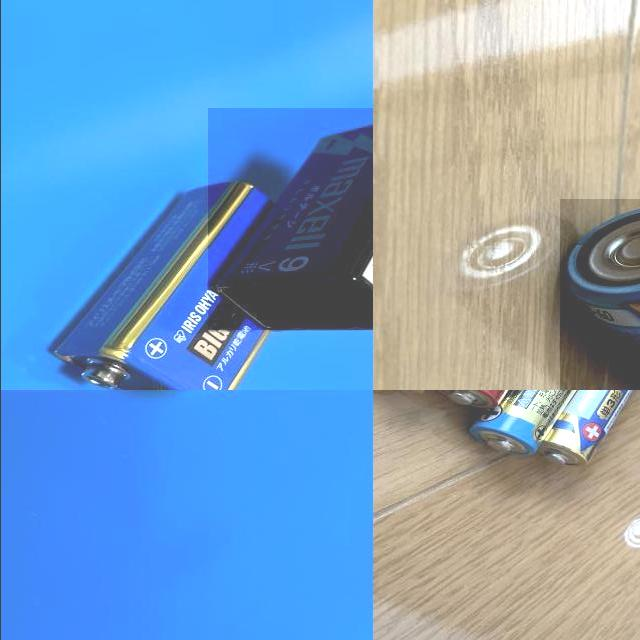9V: (50, 182, 273, 390), (207, 107, 372, 330)
